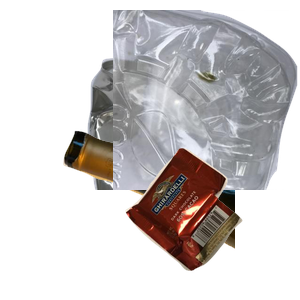glass: (60, 128, 300, 300)
metal: (85, 48, 300, 228)
plastic: (113, 10, 300, 190)
trash: (123, 145, 300, 300)
